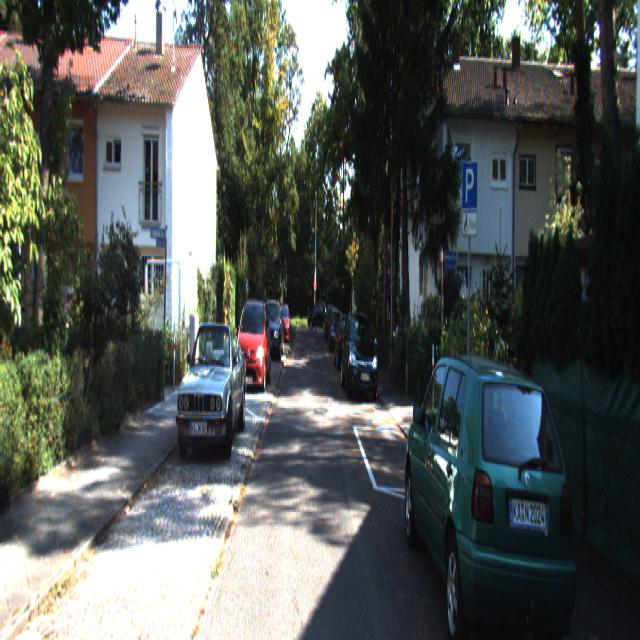Car: (402, 333, 588, 638), (176, 322, 247, 466), (342, 309, 381, 403), (236, 295, 270, 391), (260, 300, 284, 362), (274, 303, 290, 347)
